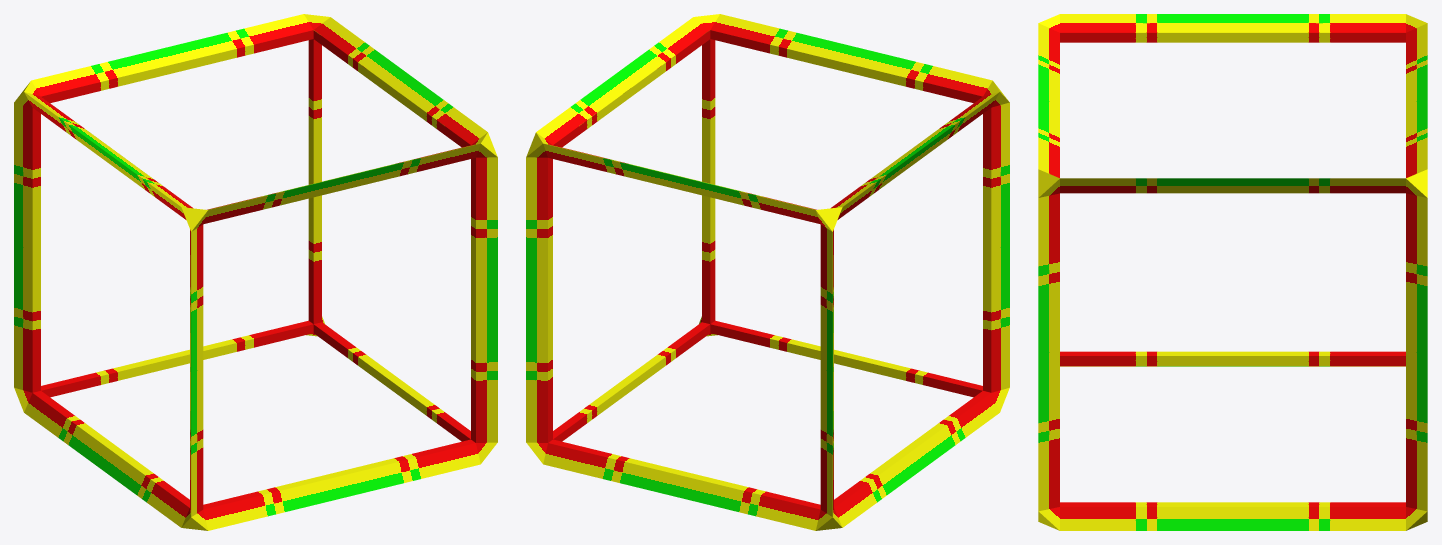
The model's file is M_BlankDiceBorder.obj.
3 views of the same model, side by side, from view 1: azimuth 30°, elevation 25°; view 2: azimuth 150°, elevation 25°; view 3: azimuth 270°, elevation 25° (orthographic). The views are drawn at different scales.
Visible parts, largest first — view 1: NormalBorder; view 2: NormalBorder; view 3: NormalBorder.
Part boxes in pixels (left/top/right/bottom): NormalBorder: left=14, top=14, right=497, bottom=530; NormalBorder: left=526, top=14, right=1009, bottom=530; NormalBorder: left=1038, top=14, right=1427, bottom=530.
Bounding box in the file's own units: 1.12 × 1.12 × 1.12.
1 material, 1 textured.
